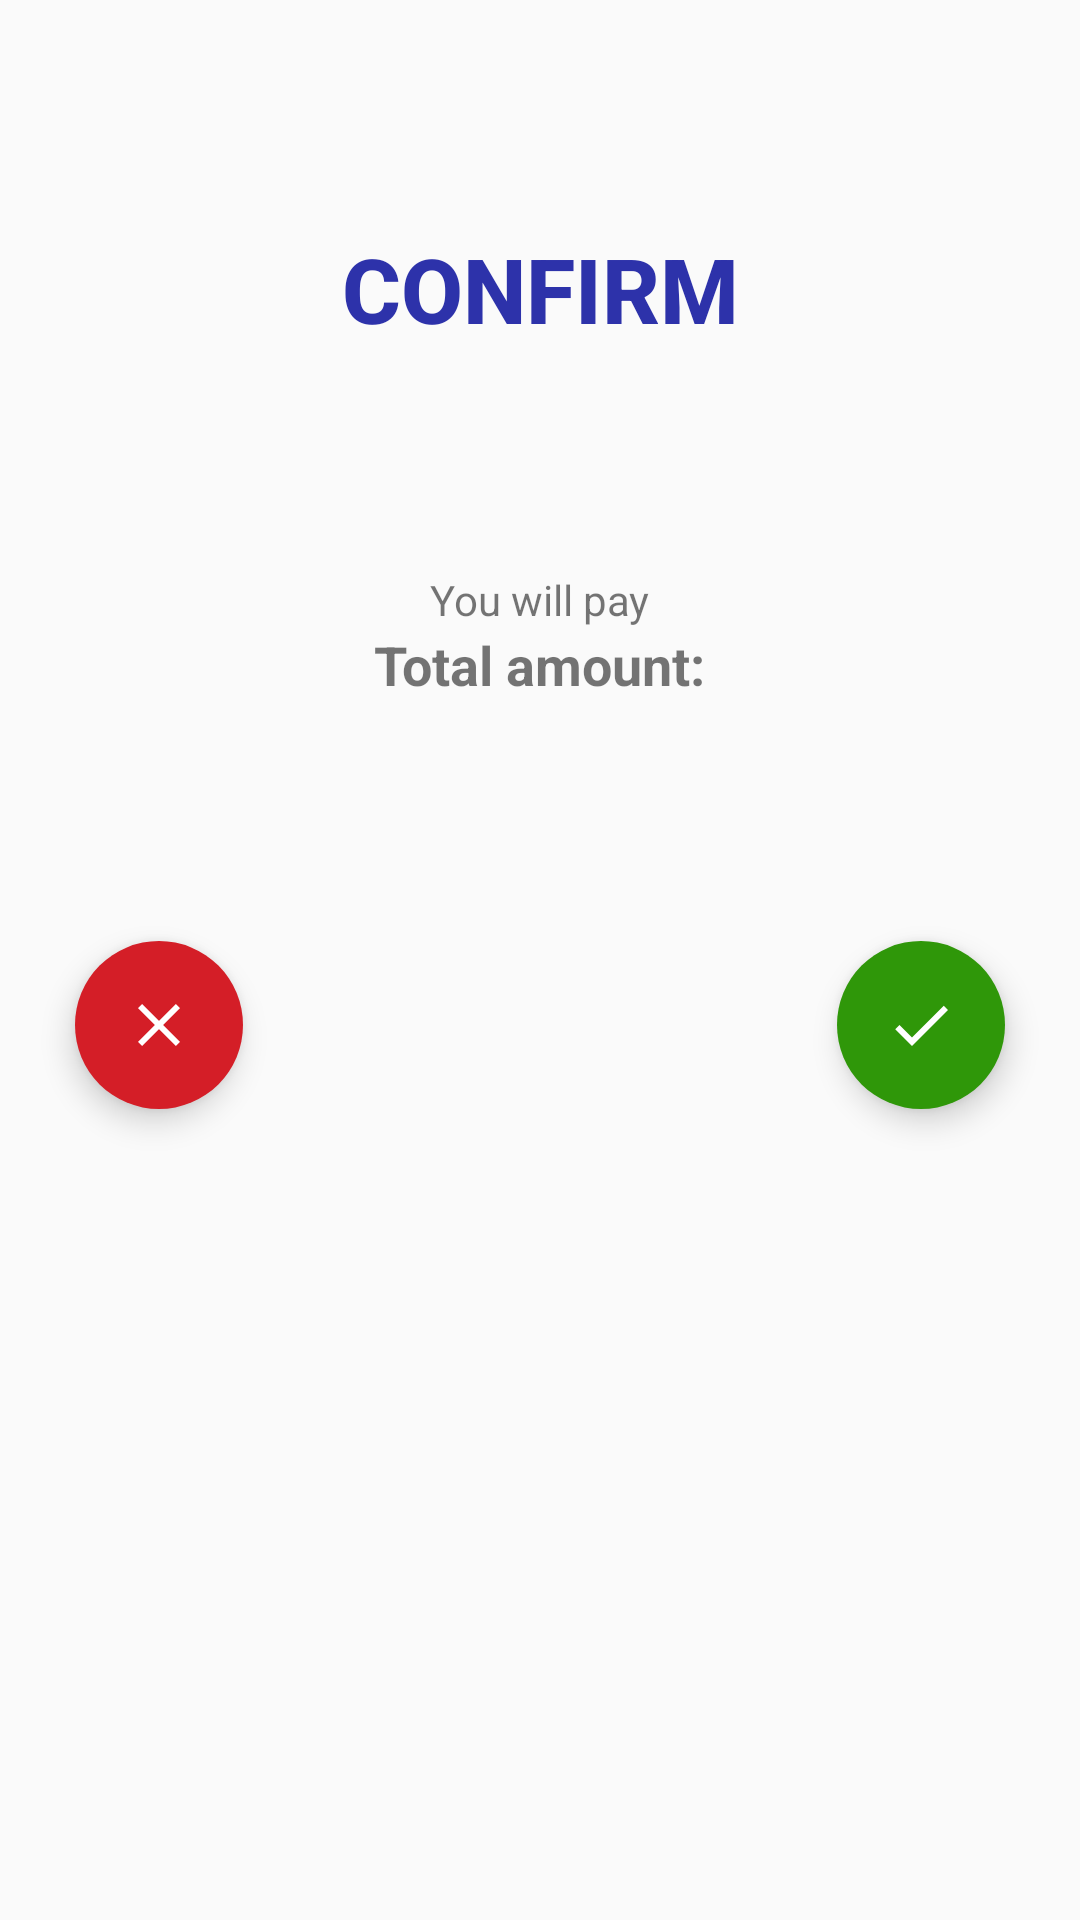

Screen size 1080px×1920px. Icon name, then its box in pixels as bbox=(x1, y1, x2, y2):
cancel: bbox=(75, 941, 243, 1109)
check: bbox=(837, 941, 1005, 1109)
